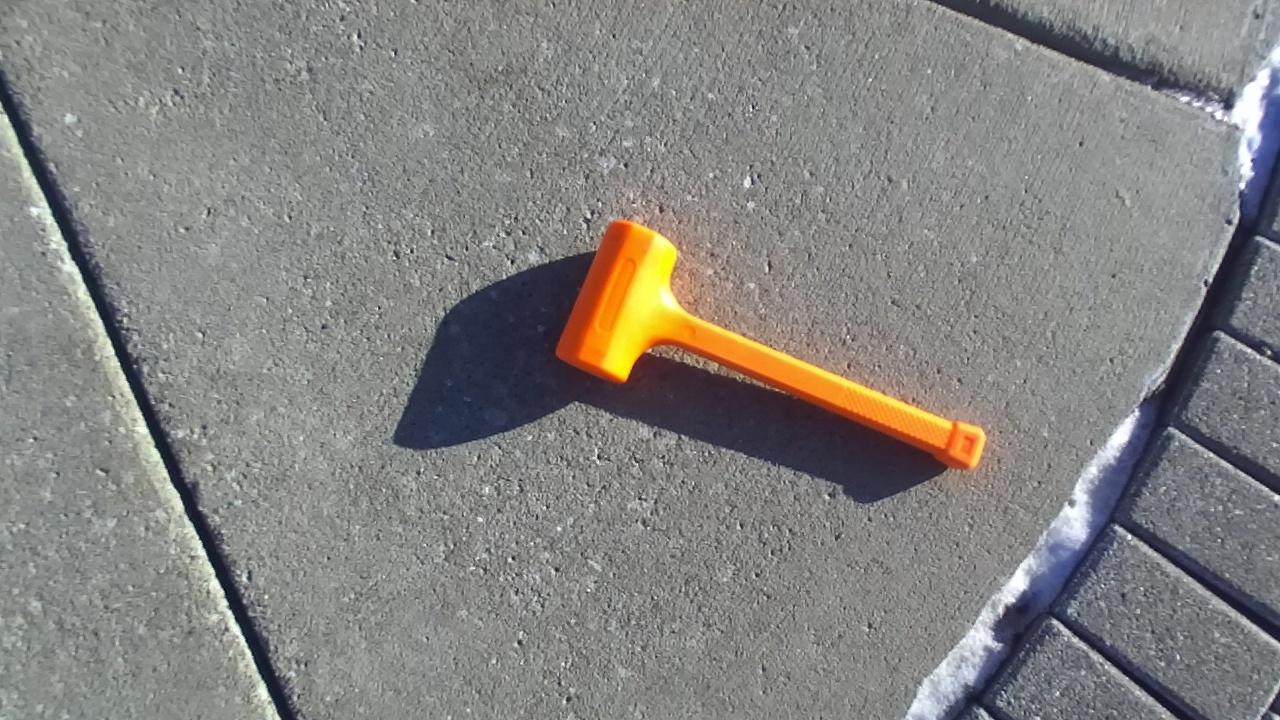mallet: (556, 221, 984, 467)
